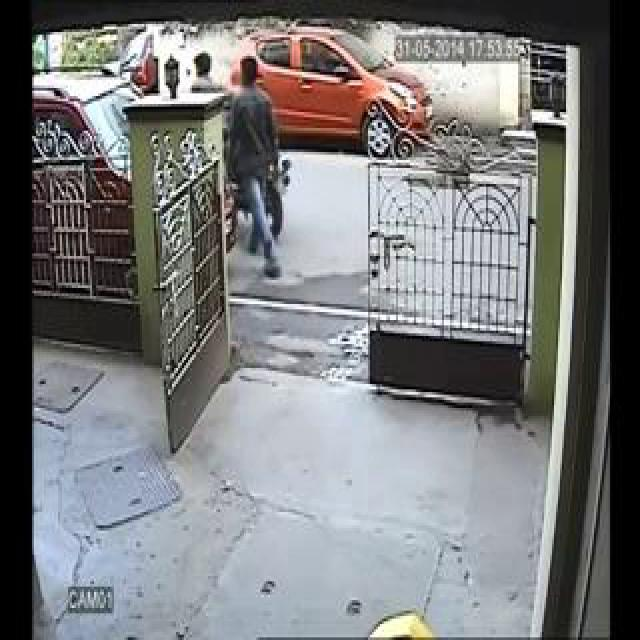stealing: (146, 27, 325, 280)
